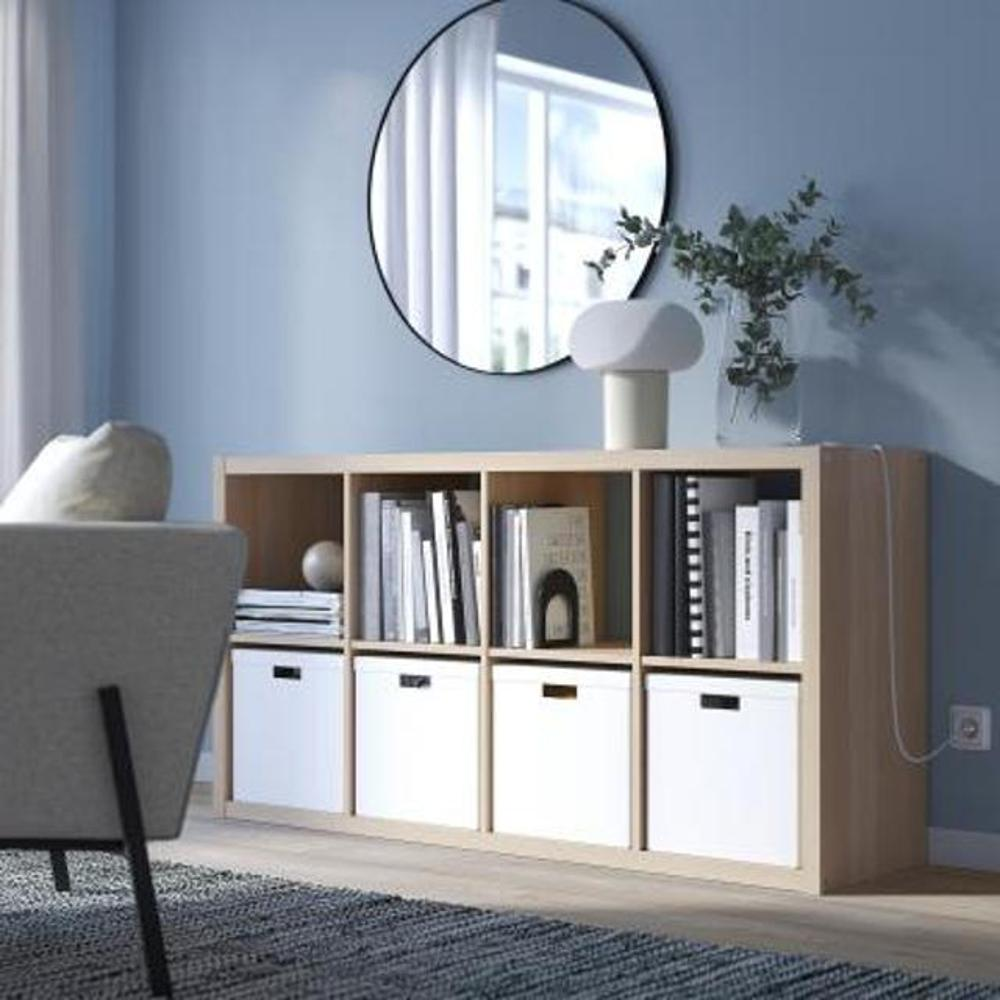lamp: (206, 439, 934, 912)
